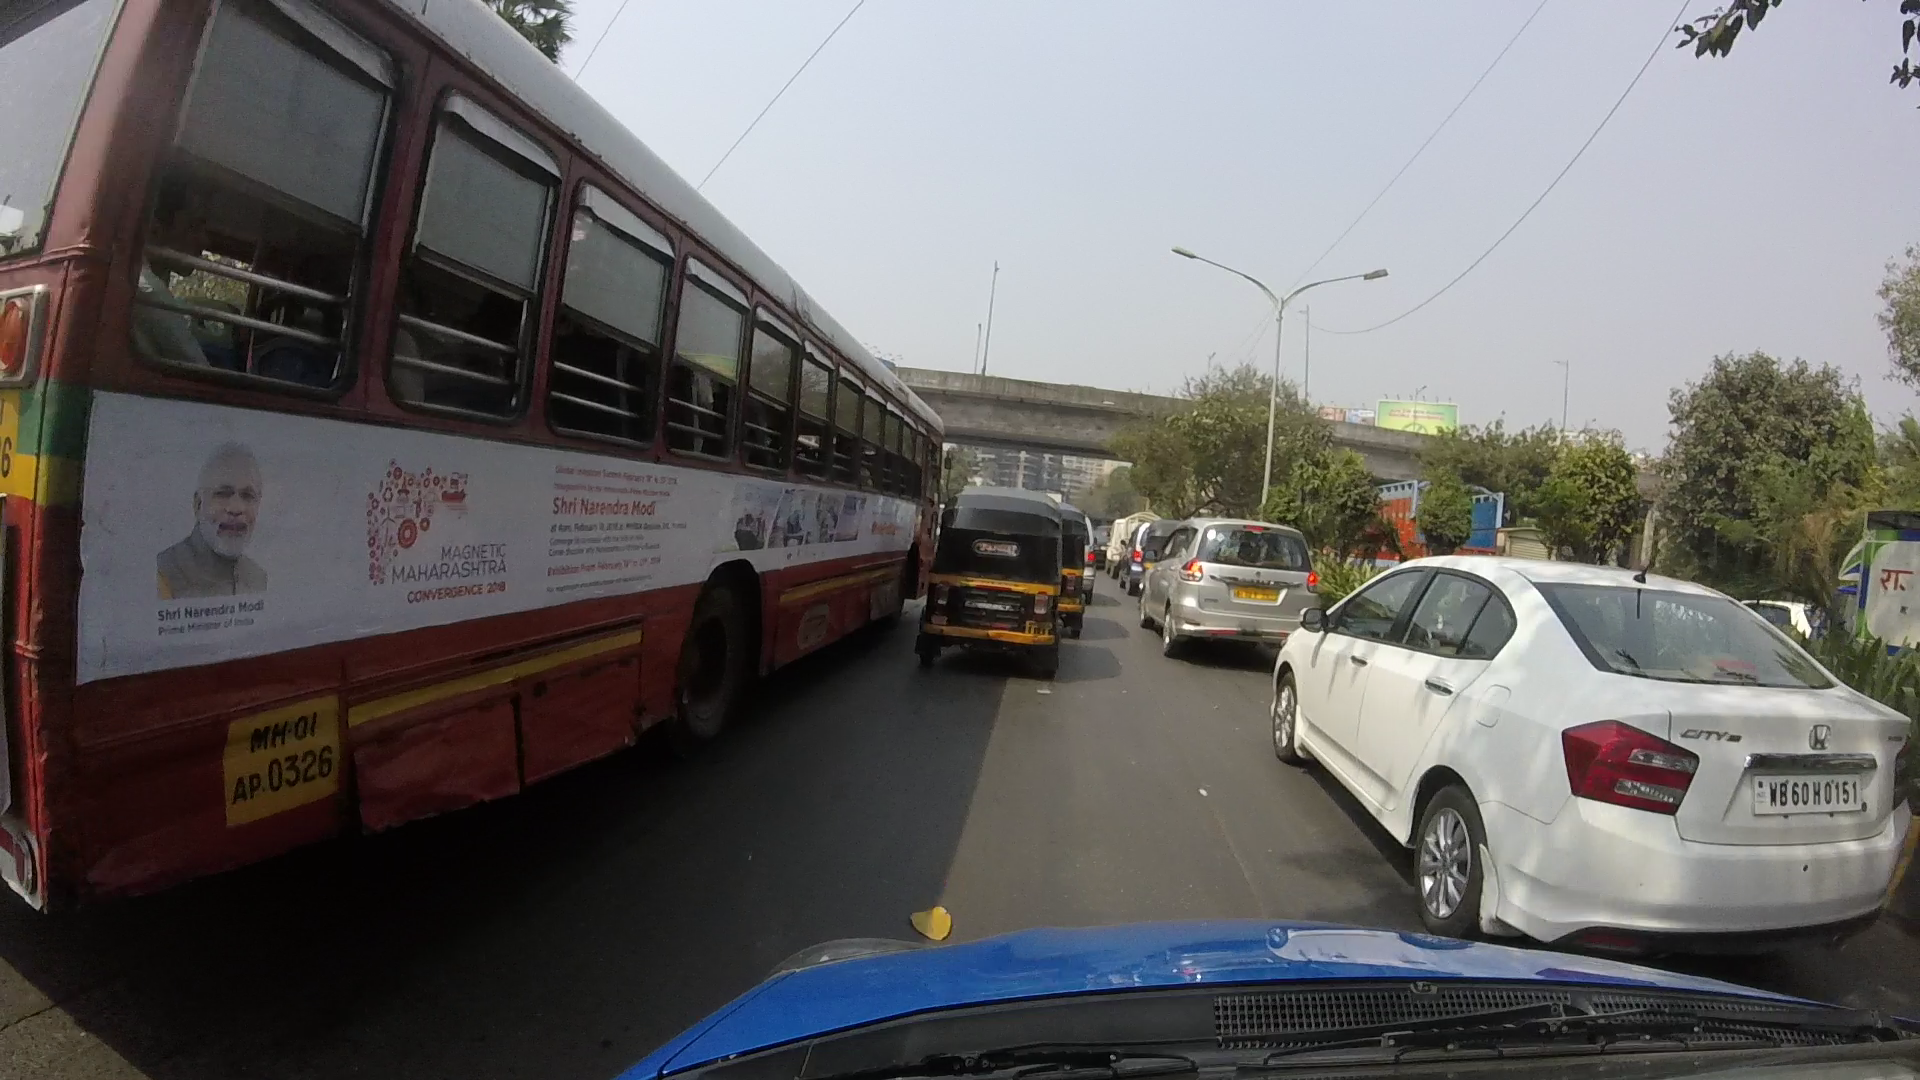bus: (25, 11, 945, 913)
car: (1280, 556, 1916, 939), (1127, 513, 1323, 657), (1122, 520, 1166, 592)
rickshaw: (924, 480, 1084, 666)
